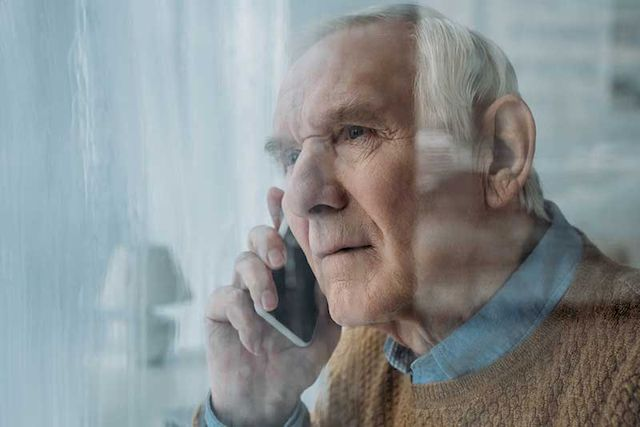phone: (256, 222, 335, 356)
talk: (200, 99, 431, 388)
